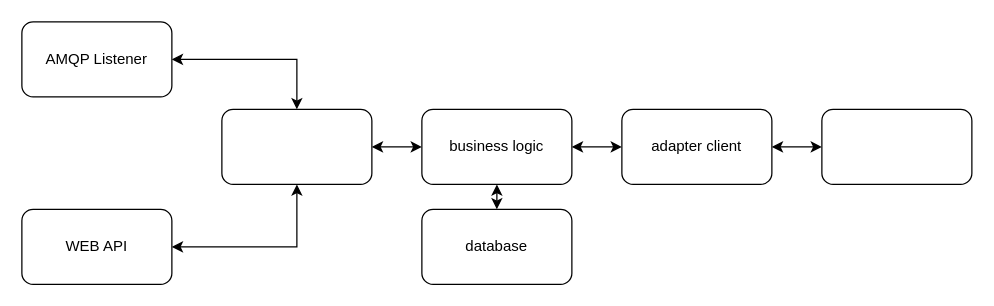
This 994x306 diagram has some shape labels left out. Each missing label, with the centre of its shape:
adapter: (x=296, y=146)
AMQP Client: (x=896, y=146)
